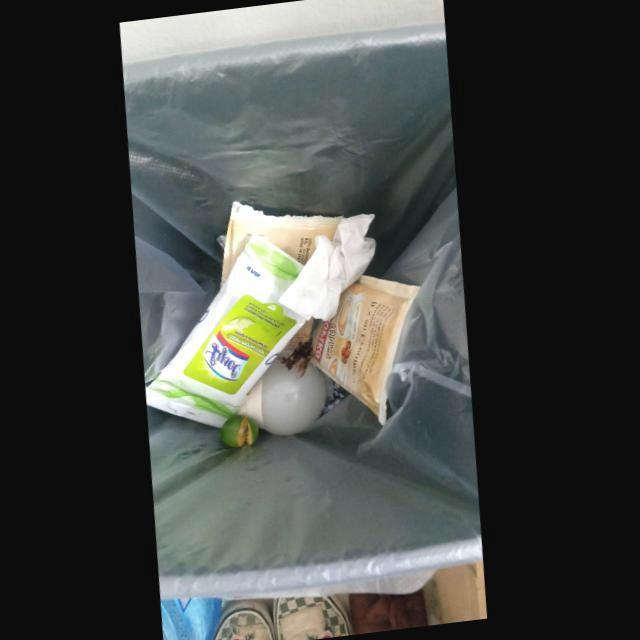left_over_food: (225, 414, 265, 447)
paper: (281, 214, 379, 323)
plastic_sachet: (150, 235, 313, 428), (314, 275, 424, 426), (224, 201, 345, 287)
